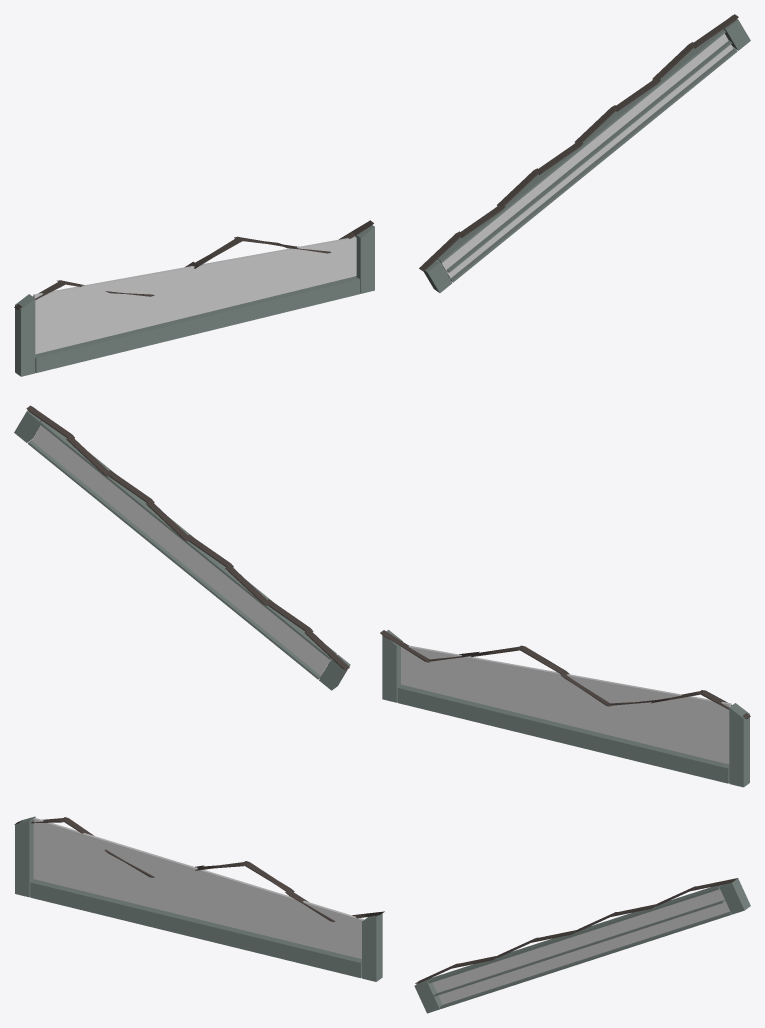
Rendered from SM_PuertaVehiculos_v3_MallaEspino_e2_MuyDanado_LOD1.fbx.
The picture shows the model from 3 angles, top to bottom: view 1: azimuth 30°, elevation 25°; view 2: azimuth 150°, elevation 25°; view 3: azimuth 330°, elevation 25°; orthographic projection. The views are drawn at different scales.
Visible parts, largest first — view 1: Hoja_O, Hoja_E; view 2: Hoja_O, Hoja_E; view 3: Hoja_O, Hoja_E.
Boxes of the visible parts, bbox=[...] form: Hoja_O: bbox=[14, 220, 374, 376]; Hoja_E: bbox=[419, 14, 750, 292]; Hoja_O: bbox=[380, 630, 750, 787]; Hoja_E: bbox=[14, 405, 350, 690]; Hoja_O: bbox=[14, 816, 384, 981]; Hoja_E: bbox=[414, 878, 750, 1013].
Size of what is drawn, in the model's own units: 8.14 by 2.18 by 0.305.
